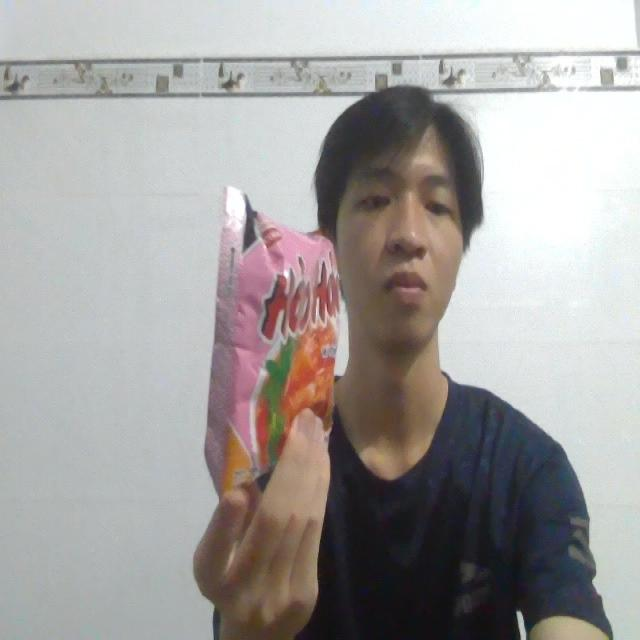mi hao hao: (148, 152, 374, 518)
